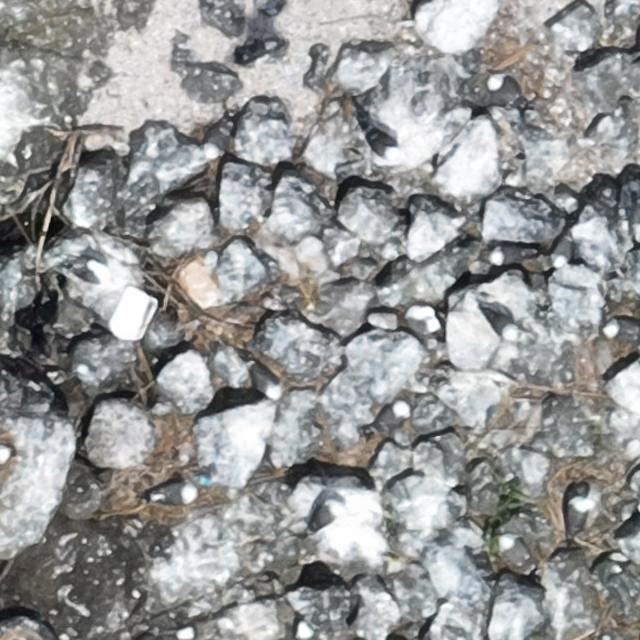umineko: (492, 529, 536, 578), (303, 497, 341, 536), (373, 402, 412, 428), (250, 366, 280, 397), (484, 306, 516, 335), (365, 131, 397, 158), (202, 122, 226, 156), (155, 484, 195, 504), (568, 498, 587, 535), (550, 233, 570, 265), (605, 321, 638, 340), (491, 245, 527, 262), (487, 75, 516, 95), (0, 443, 8, 464)
